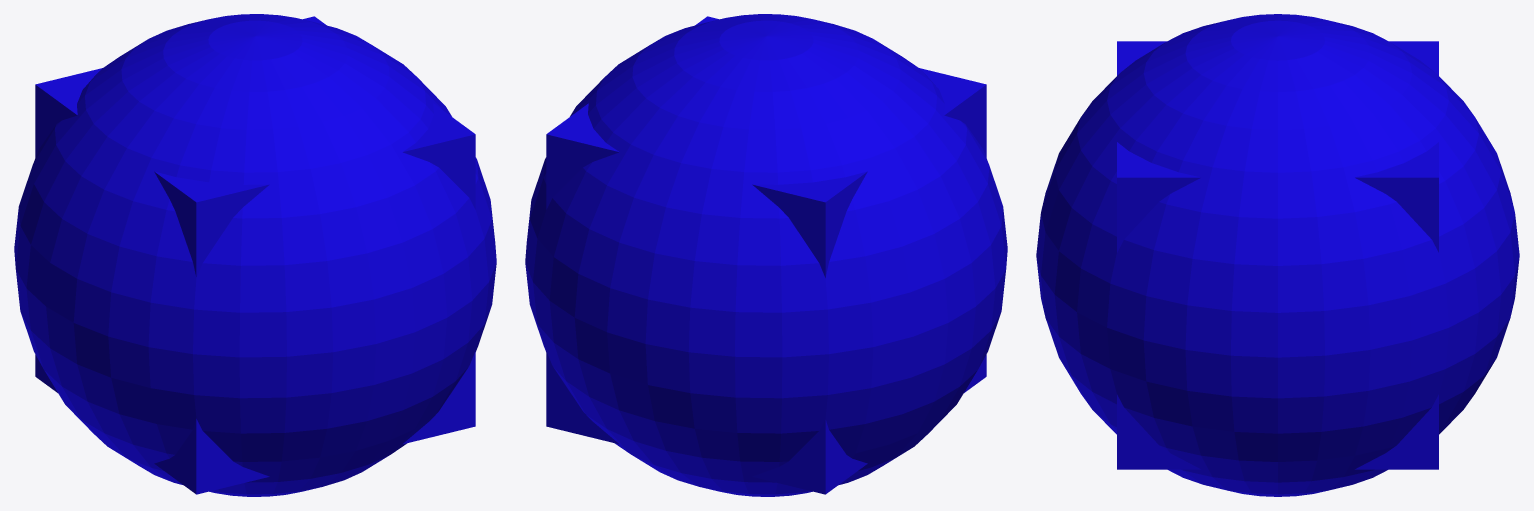
Rendered from xrmodel.gltf.
The picture shows the model from 3 angles, left to right: view 1: azimuth 30°, elevation 25°; view 2: azimuth 150°, elevation 25°; view 3: azimuth 270°, elevation 25°; orthographic projection.
Visible parts, largest first — view 1: Sphere, Cube; view 2: Sphere, Cube; view 3: Sphere, Cube.
Part boxes in pixels (x1,y1,x2,y2): Sphere: (14,14,496,496); Cube: (35,16,475,494); Sphere: (525,14,1007,496); Cube: (546,16,986,494); Sphere: (1036,14,1519,496); Cube: (1117,41,1438,469).
Bounding box in the file's own units: 3 × 3 × 3.
